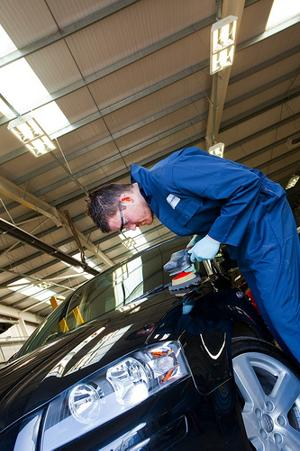person: (87, 146, 300, 380)
